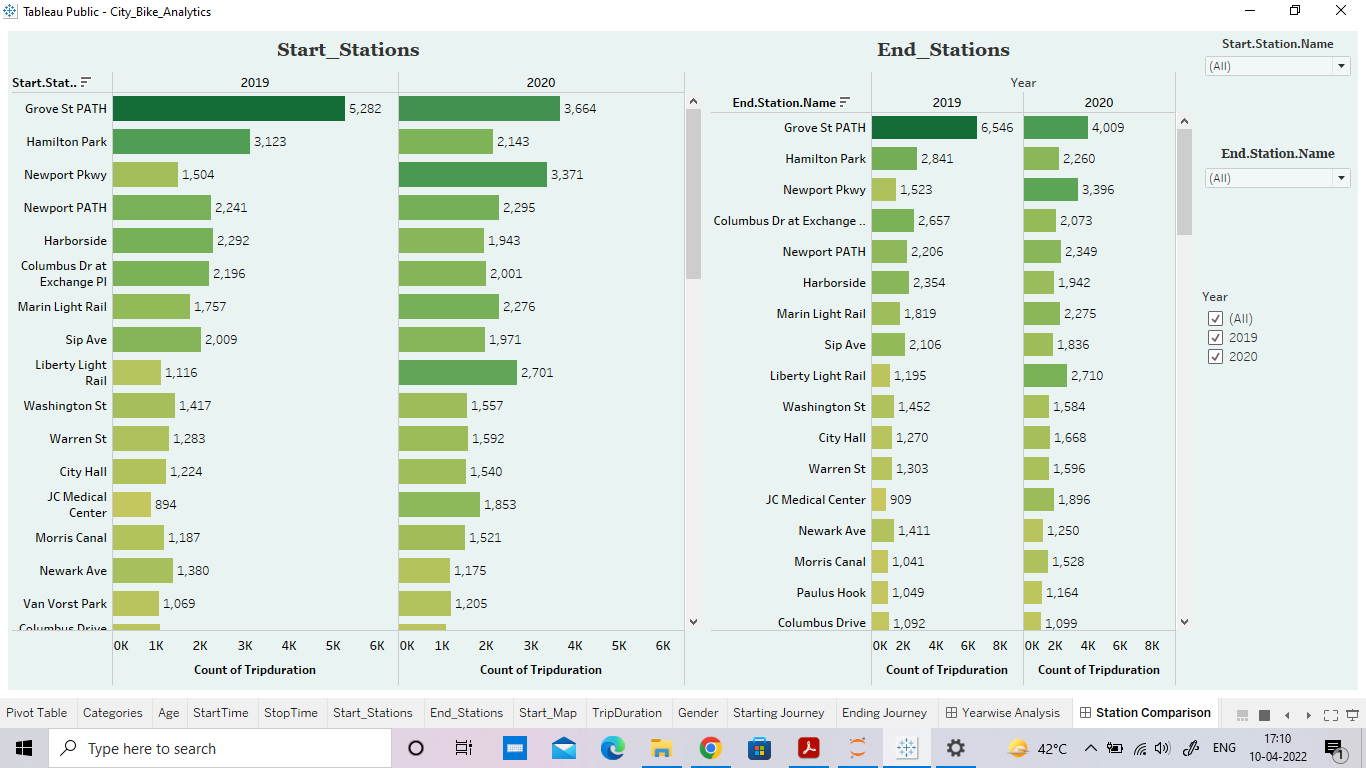

The dashboard page shown, as its layout file describes it:
{"tool":"tableau","page":{"name":"Station Comparison","canvas":[1000,1000],"units":"permille","ordinal":1},"visuals":[{"type":"worksheet","box":[0,0,1000,1000]},{"type":"worksheet","param":"horz","box":[7,13.5,986.1,973]},{"type":"worksheet","param":"horz","box":[7,13.5,846.8,973]},{"type":"worksheet","box":[7,13.5,419.5,973]},{"type":"worksheet","title":"Start_Stations","mark":"Automatic","rows":["start.station.name"],"cols":["year","tripduration"],"box":[7,13.5,419.5,973]},{"type":"worksheet","param":"vert","box":[426.5,13.5,427.3,973]},{"type":"worksheet","title":"End_Stations","mark":"Automatic","rows":["end.station.name"],"cols":["year","tripduration"],"box":[426.5,13.5,427.3,973]},{"type":"worksheet","param":"vert","box":[853.8,13.5,139.2,973]},{"type":"worksheet","title":"Start_Stations","mark":"Automatic","rows":["start.station.name"],"cols":["year","tripduration"],"param":"[federated.0axtsh30ud2oz713ihg7k1uitwuh].[none:start.station.name:nk]","box":[853.8,13.5,139.2,189.2]},{"type":"worksheet","title":"End_Stations","mark":"Automatic","rows":["end.station.name"],"cols":["year","tripduration"],"param":"[federated.0axtsh30ud2oz713ihg7k1uitwuh].[none:end.station.name:nk]","box":[853.8,202.7,139.2,238.2]},{"type":"worksheet","title":"Start_Stations","mark":"Automatic","rows":["start.station.name"],"cols":["year","tripduration"],"param":"[federated.0axtsh30ud2oz713ihg7k1uitwuh].[none:year:nk]","box":[853.8,440.9,139.2,150.3]}]}

Visuals, with their boxes on the dashboard's canvas, which has no fixed pixel size, in thousandths of its width and height (x1, y1, x2, y2). These are canvas units, not pixel positions in the 1366x768 screenshot, which may show the page scaled, cropped or inside an application window:
worksheet: pyautogui.locateOnScreen(0, 0, 1000, 1000)
worksheet: pyautogui.locateOnScreen(7, 14, 993, 986)
worksheet: pyautogui.locateOnScreen(7, 14, 854, 986)
worksheet: pyautogui.locateOnScreen(7, 14, 426, 986)
"Start_Stations" worksheet: pyautogui.locateOnScreen(7, 14, 426, 986)
worksheet: pyautogui.locateOnScreen(426, 14, 854, 986)
"End_Stations" worksheet: pyautogui.locateOnScreen(426, 14, 854, 986)
worksheet: pyautogui.locateOnScreen(854, 14, 993, 986)
"Start_Stations" worksheet: pyautogui.locateOnScreen(854, 14, 993, 203)
"End_Stations" worksheet: pyautogui.locateOnScreen(854, 203, 993, 441)
"Start_Stations" worksheet: pyautogui.locateOnScreen(854, 441, 993, 591)
